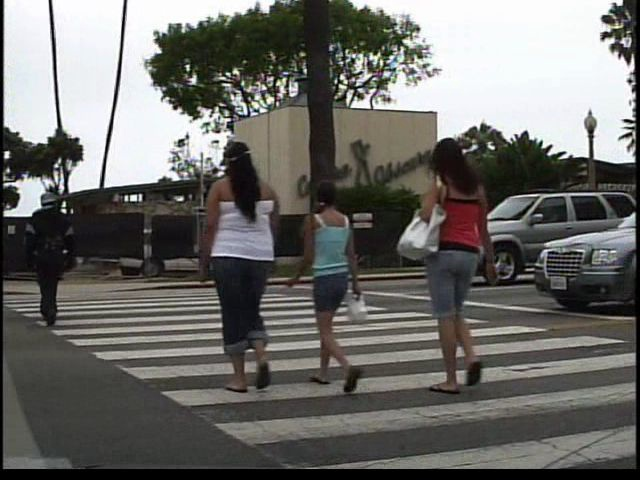person: (415, 130, 519, 398), (201, 134, 300, 406), (296, 171, 370, 395), (19, 181, 86, 332)
